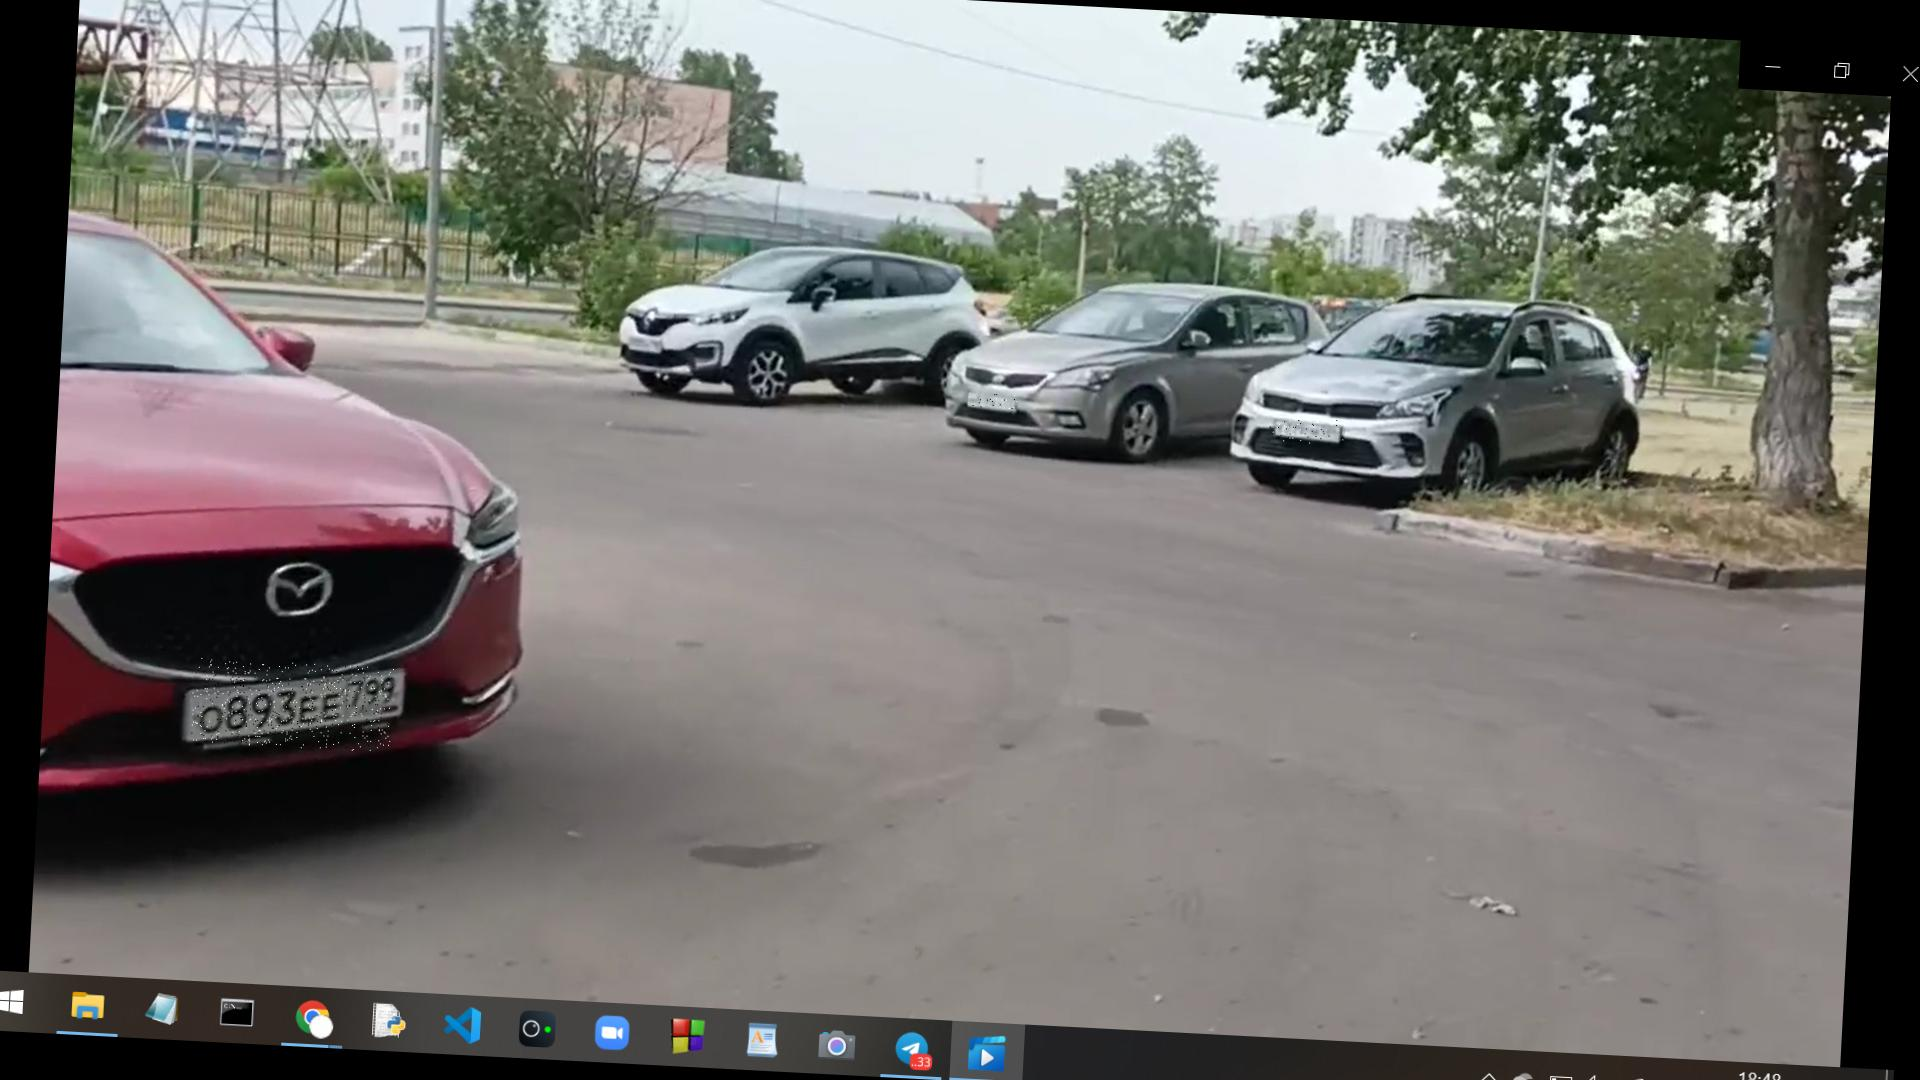plate: (191, 659, 395, 754), (1270, 417, 1346, 447), (970, 394, 1021, 411)
